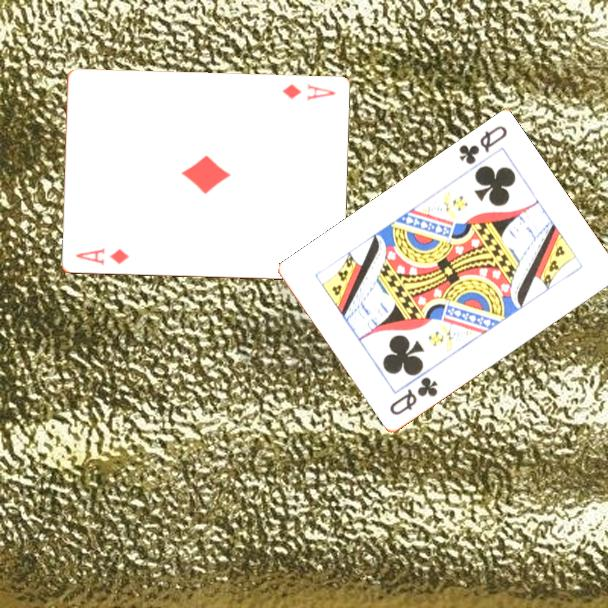c12: (455, 122, 510, 168), (386, 374, 441, 419)
d01: (72, 244, 132, 269), (279, 80, 338, 104)
